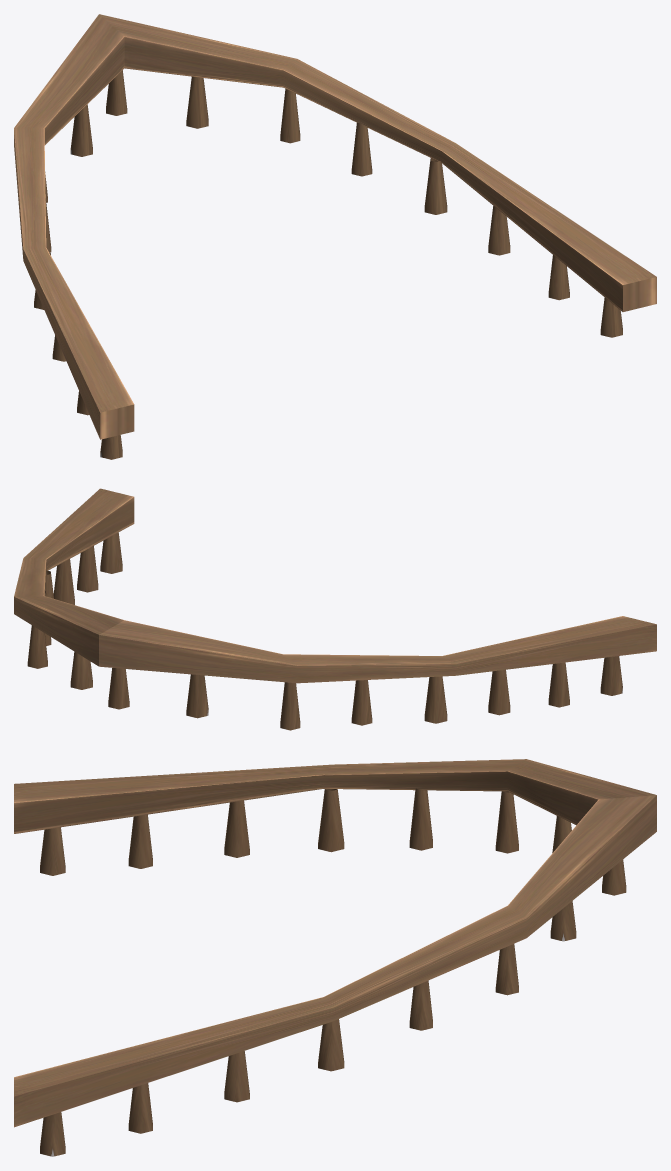
File: A_HA_GEN_Ship_Rails_Front_01.fbx
3 views of the same model, one above another, from view 1: azimuth 30°, elevation 25°; view 2: azimuth 150°, elevation 25°; view 3: azimuth 270°, elevation 25° (orthographic). The views are drawn at different scales.
Visible parts, largest first — view 1: A_HA_Gen_Ship_Rails_Front_01; view 2: A_HA_Gen_Ship_Rails_Front_01; view 3: A_HA_Gen_Ship_Rails_Front_01.
Part boxes in pixels (left/top/right/bottom): A_HA_Gen_Ship_Rails_Front_01: left=14, top=14, right=656, bottom=459; A_HA_Gen_Ship_Rails_Front_01: left=14, top=488, right=656, bottom=730; A_HA_Gen_Ship_Rails_Front_01: left=14, top=759, right=656, bottom=1156.
Bounding box in the file's own units: 911 × 292 × 792.
1 material, 1 textured.
